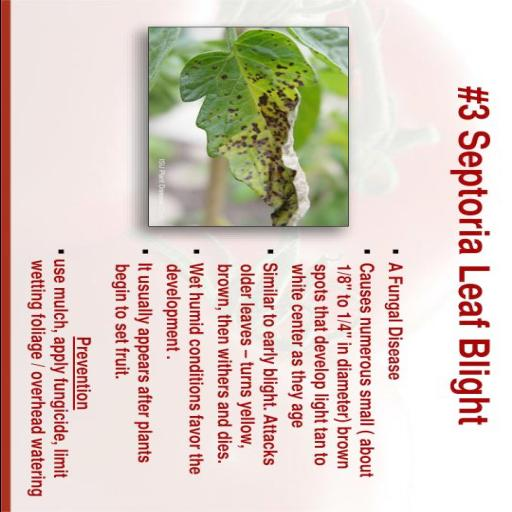Septoria: (168, 28, 314, 224)
